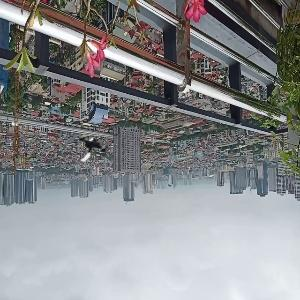drone: (72, 129, 111, 168)
